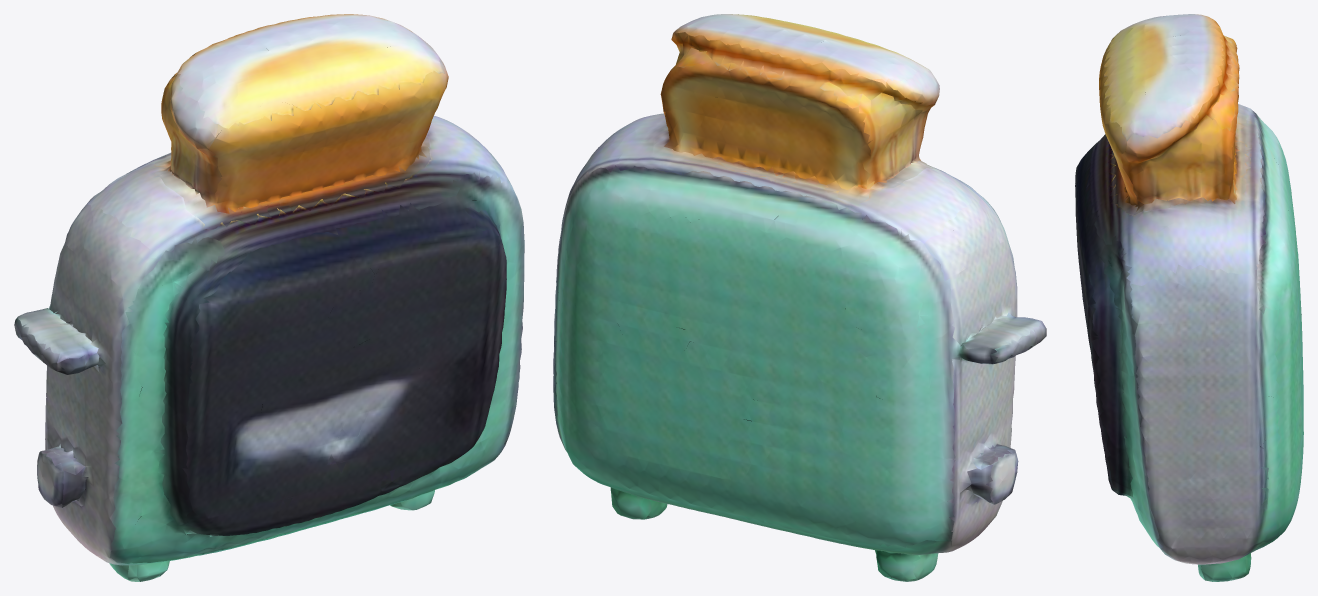
Rendered from toaster.glb.
3 views of the same model, side by side, from view 1: azimuth 30°, elevation 25°; view 2: azimuth 150°, elevation 25°; view 3: azimuth 270°, elevation 25° (orthographic). The views are drawn at different scales.
Parts seen in each view (by area): view 1: world; view 2: world; view 3: world.
Part boxes in pixels (box(x1,y1,x2,y2)): world: box(14, 14, 524, 581); world: box(553, 14, 1046, 581); world: box(1075, 14, 1303, 581).
Size of the model in its own units: 0.9401 by 1 by 0.4416.
Materials: 1 (1 with a texture image).
